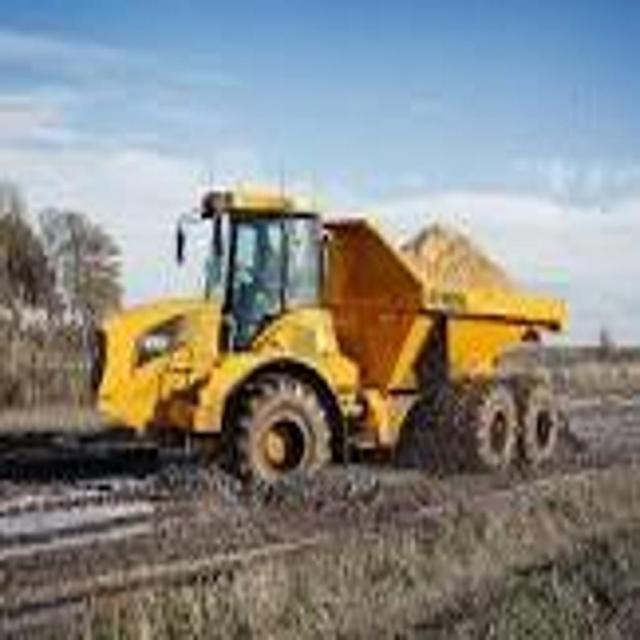dump_truck: (92, 160, 568, 492)
